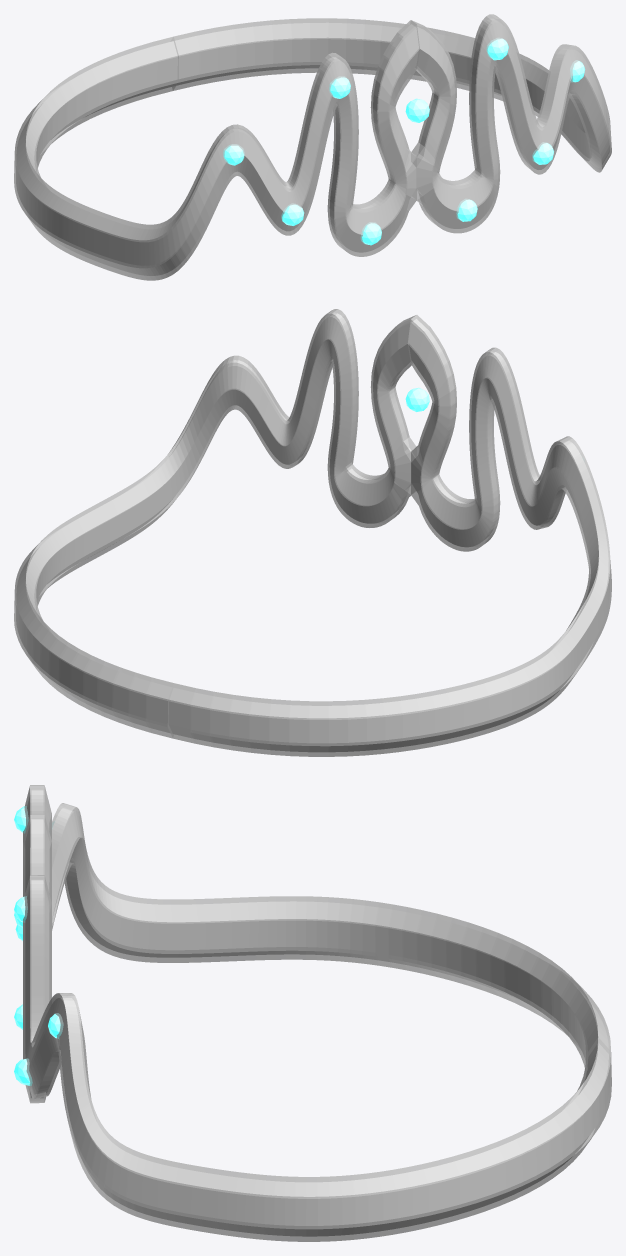
File: tiara.fbx
3 renders of one model, top to bottom at view 1: azimuth 30°, elevation 25°; view 2: azimuth 150°, elevation 25°; view 3: azimuth 270°, elevation 25°, orthographic. The views are drawn at different scales.
Visible parts, largest first — view 1: Crown, NurbsPath.001, Icosphere.001, Icosphere.002, Icosphere; view 2: Crown, NurbsPath.001; view 3: Crown, NurbsPath.001, Icosphere.002.
Boxes of the visible parts, bbox=[...] form: Crown: bbox=[14, 14, 611, 280]; NurbsPath.001: bbox=[16, 19, 609, 275]; Icosphere.001: bbox=[223, 76, 381, 245]; Icosphere.002: bbox=[456, 38, 585, 221]; Icosphere: bbox=[405, 98, 429, 122]; Crown: bbox=[14, 309, 611, 756]; NurbsPath.001: bbox=[16, 313, 609, 751]; Crown: bbox=[23, 785, 611, 1241]; NurbsPath.001: bbox=[25, 790, 609, 1236]; Icosphere.002: bbox=[14, 896, 63, 1085].
Bounding box in the file's own units: 429 × 196 × 371.
